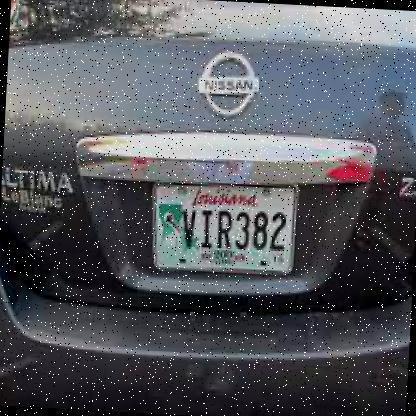License-Plate: (148, 175, 310, 283)
